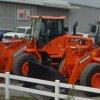Tractor: (13, 10, 100, 78)
